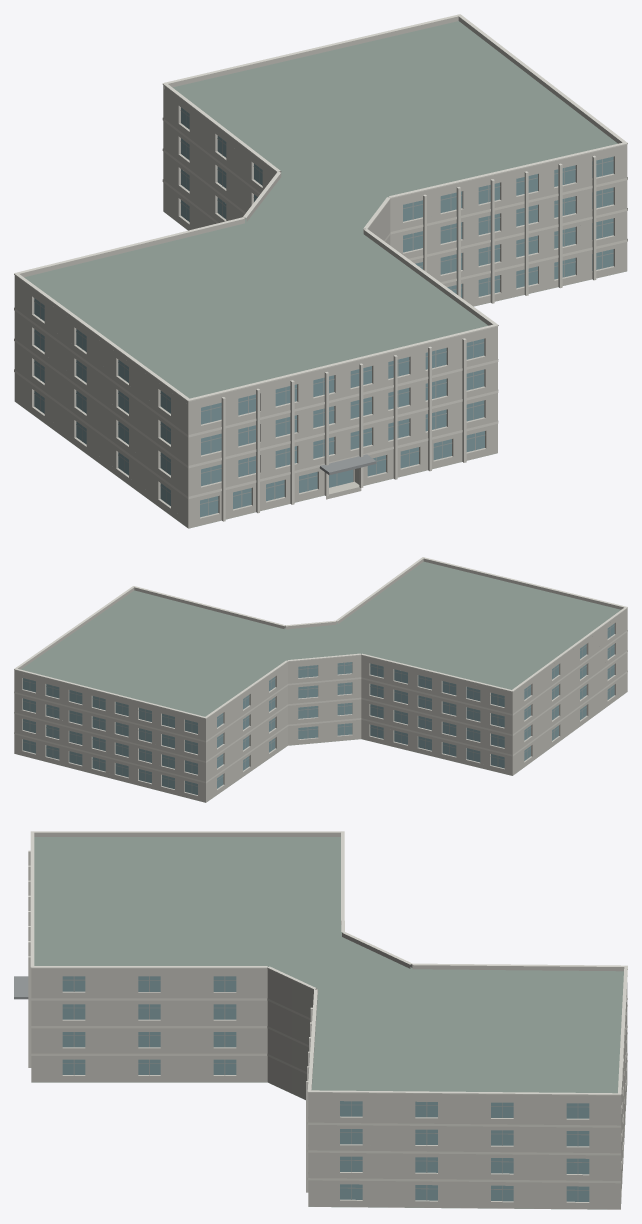
3 views of the same model, one above another, from view 1: azimuth 30°, elevation 25°; view 2: azimuth 150°, elevation 25°; view 3: azimuth 270°, elevation 25° (orthographic). The views are drawn at different scales.
Visible parts, largest first — view 1: namje__roof, namje__wall, namje__glass, namje__trim, namje__parapet, namje__frame; view 2: namje__roof, namje__wall, namje__glass, namje__trim, namje__parapet, namje__frame; view 3: namje__roof, namje__wall, namje__trim, namje__glass, namje__parapet, namje__frame.
Part boxes in pixels (x1,y1,x2,y2): namje__roof: [17, 21, 626, 528]; namje__wall: [14, 88, 627, 528]; namje__glass: [34, 107, 613, 517]; namje__trim: [14, 14, 627, 521]; namje__parapet: [14, 16, 627, 405]; namje__frame: [34, 110, 613, 515]; namje__roof: [18, 561, 620, 802]; namje__wall: [14, 610, 627, 802]; namje__glass: [23, 623, 614, 794]; namje__trim: [14, 557, 627, 783]; namje__parapet: [14, 558, 627, 720]; namje__frame: [23, 625, 614, 793]; namje__roof: [31, 837, 624, 1209]; namje__wall: [31, 971, 627, 1209]; namje__trim: [28, 831, 627, 1192]; namje__glass: [62, 976, 589, 1201]; namje__parapet: [31, 832, 624, 1098]; namje__frame: [62, 976, 589, 1201].
Size of the model in its own units: 61.15 by 12.85 by 60.2.
